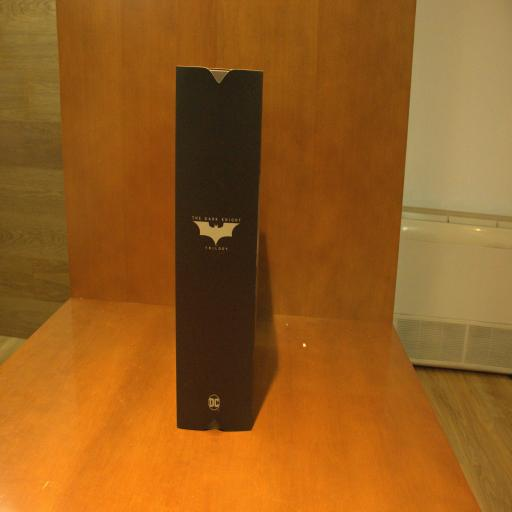catwoman: (176, 65, 263, 430)
